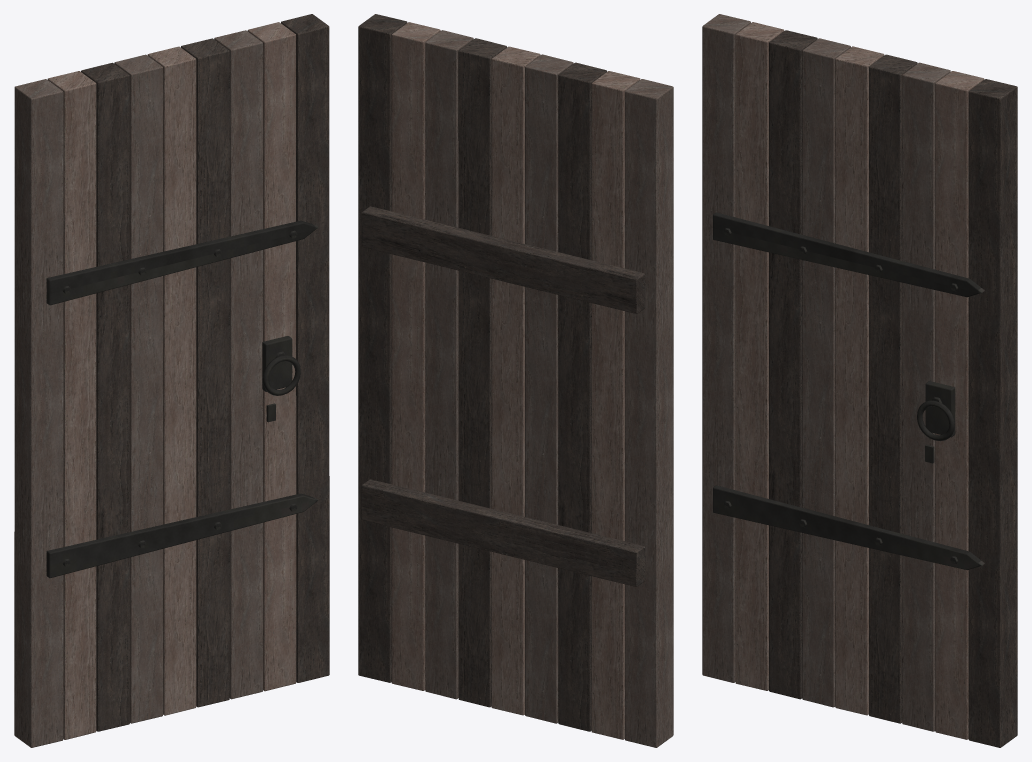
The model's file is Door_Rect.gltf.
3 renders of one model, left to right at view 1: azimuth 30°, elevation 25°; view 2: azimuth 150°, elevation 25°; view 3: azimuth 330°, elevation 25°, orthographic.
Visible parts, largest first — view 1: Door_Rect; view 2: Door_Rect; view 3: Door_Rect.
Part boxes in pixels (box(x1,y1,x2,y2)): Door_Rect: box(14, 14, 329, 747); Door_Rect: box(358, 14, 673, 747); Door_Rect: box(702, 14, 1017, 747).
Bounding box in the file's own units: 0.9764 × 2.03 × 0.2005.
4 materials, 4 textured.
